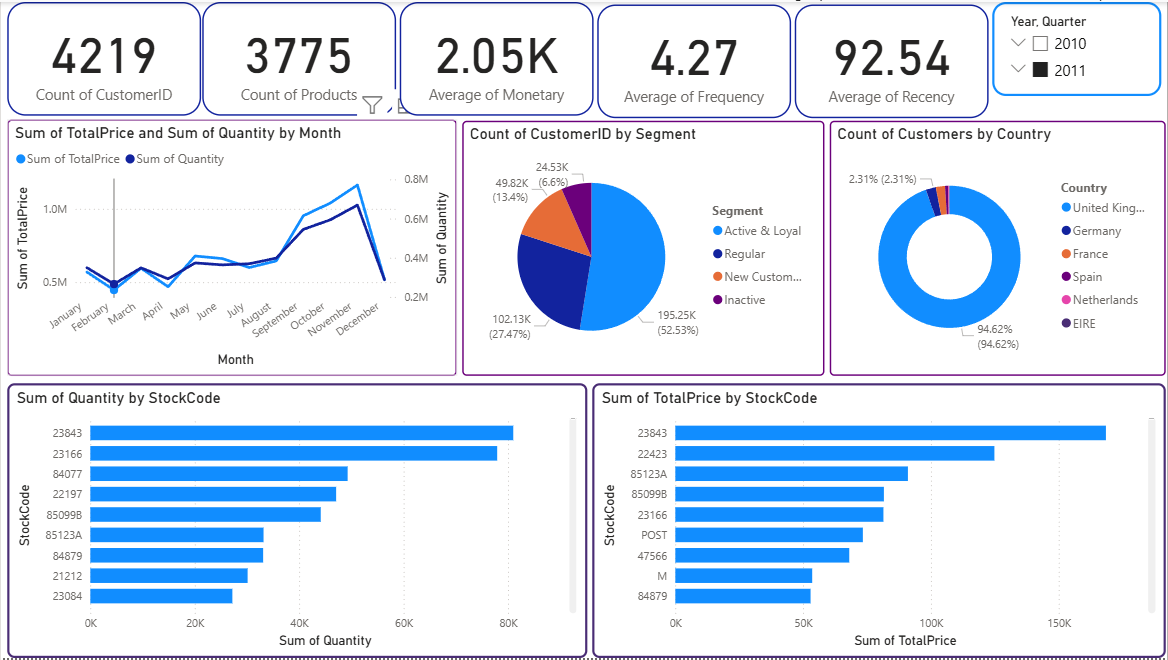

The page's visual inventory and layout, read from the dashboard file:
{"tool":"powerbi","page":{"name":"Page 1","canvas":[1280,720],"ordinal":0},"visuals":[{"type":"card","fields":{"Values":["Count(Cleaned_df.CustomerID)"]},"box":[6.9,0,212.7,124.9],"z":0},{"type":"card","fields":{"Values":["Count(Cleaned_df.Description)"]},"box":[220.9,0,212.7,124.9],"z":1000},{"type":"lineChart","fields":{"Y":["Sum(Cleaned_df.TotalPrice)"],"Category":["Cleaned_df.InvoiceDate.Variation.Date Hierarchy.Month"],"Y2":["Sum(Cleaned_df.Quantity)"]},"box":[6.9,129,494,281.3],"z":2000},{"type":"slicer","fields":{"Values":["Cleaned_df.InvoiceDate.Variation.Date Hierarchy.Year","Cleaned_df.InvoiceDate.Variation.Date Hierarchy.Quarter"]},"box":[1088.2,0,185.2,102.9],"z":3000},{"type":"donutChart","title":"Count of Customers by Country","fields":{"Category":["Cleaned_df.Country"],"Y":["Count(Cleaned_df.CustomerID)"]},"box":[909.8,130.4,369.1,279.9],"z":4000},{"type":"barChart","fields":{"Category":["Cleaned_df.StockCode"],"Y":["Sum(Cleaned_df.Quantity)"]},"box":[6.9,418.5,636.7,301.9],"z":5000},{"type":"barChart","fields":{"Category":["Cleaned_df.StockCode"],"Y":["Sum(Cleaned_df.TotalPrice)"]},"box":[649.1,418.5,629.8,301.9],"z":6000},{"type":"pieChart","fields":{"Category":["rfm_df.Segment"],"Y":["CountNonNull(Cleaned_df.CustomerID)"]},"box":[506.3,130.4,397.9,279.9],"z":7000},{"type":"card","fields":{"Values":["Avg(rfm_df.Monetary)"]},"box":[437.7,0,212.7,124.9],"z":8000},{"type":"card","fields":{"Values":["Avg(rfm_df.Frequency)"]},"box":[654.5,2.7,212.7,124.9],"z":9000},{"type":"card","fields":{"Values":["Avg(rfm_df.Recency)"]},"box":[871.4,2.7,212.7,124.9],"z":10000}]}

Visuals, with their boxes in screenshot pixels (x1, y1, x2, y2), scaled from the page's 1280x720 canvas onto the 1168x660 screenshot:
card - Count(Cleaned_df.CustomerID): bbox(6, 0, 200, 114)
card - Count(Cleaned_df.Description): bbox(202, 0, 396, 114)
lineChart - Sum(Cleaned_df.TotalPrice) x Cleaned_df.InvoiceDate.Variation.Date Hierarchy.Month: bbox(6, 118, 457, 376)
slicer - Cleaned_df.InvoiceDate.Variation.Date Hierarchy.Year x Cleaned_df.InvoiceDate.Variation.Date Hierarchy.Quarter: bbox(993, 0, 1162, 94)
"Count of Customers by Country" donutChart: bbox(830, 120, 1167, 376)
barChart - Cleaned_df.StockCode x Sum(Cleaned_df.Quantity): bbox(6, 384, 587, 659)
barChart - Cleaned_df.StockCode x Sum(Cleaned_df.TotalPrice): bbox(592, 384, 1167, 659)
pieChart - rfm_df.Segment x CountNonNull(Cleaned_df.CustomerID): bbox(462, 120, 825, 376)
card - Avg(rfm_df.Monetary): bbox(399, 0, 593, 114)
card - Avg(rfm_df.Frequency): bbox(597, 2, 791, 117)
card - Avg(rfm_df.Recency): bbox(795, 2, 989, 117)
